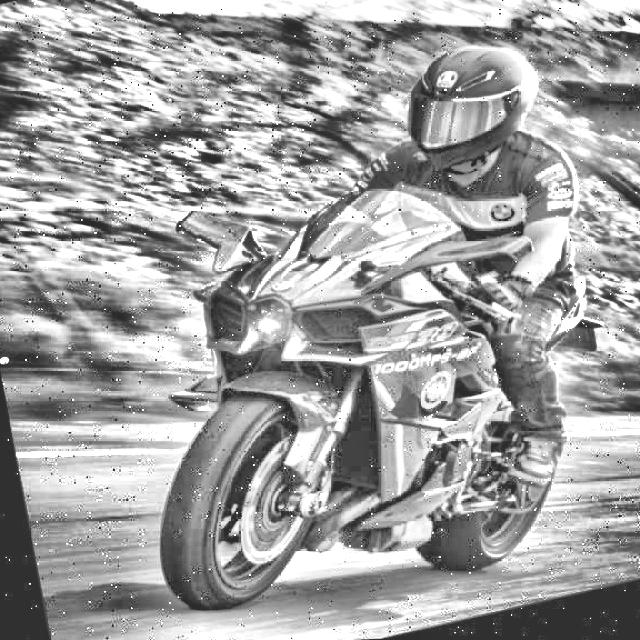Helmet: (390, 29, 558, 197)
